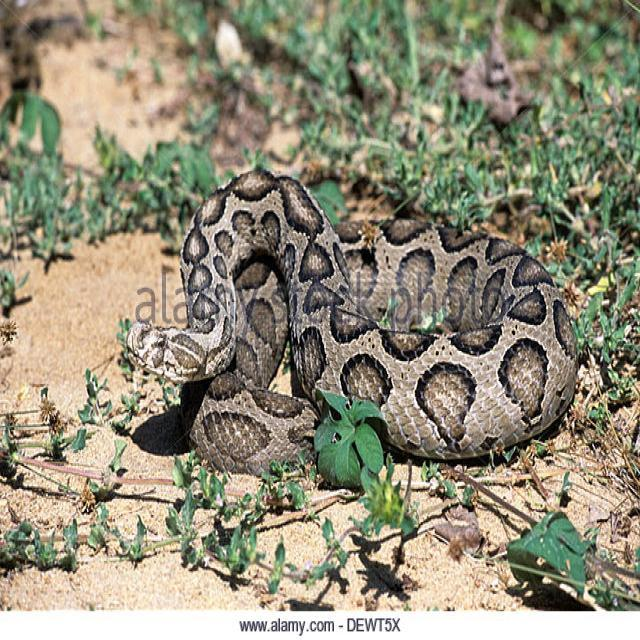Snake: (125, 165, 579, 479)
